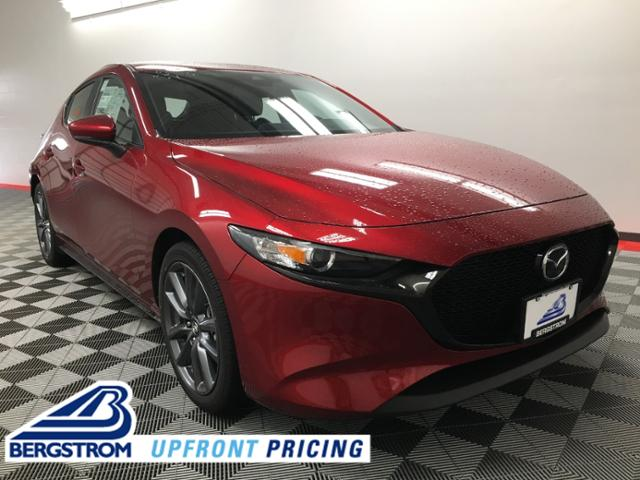Mazda3 Hatchback: (29, 62, 619, 429)
